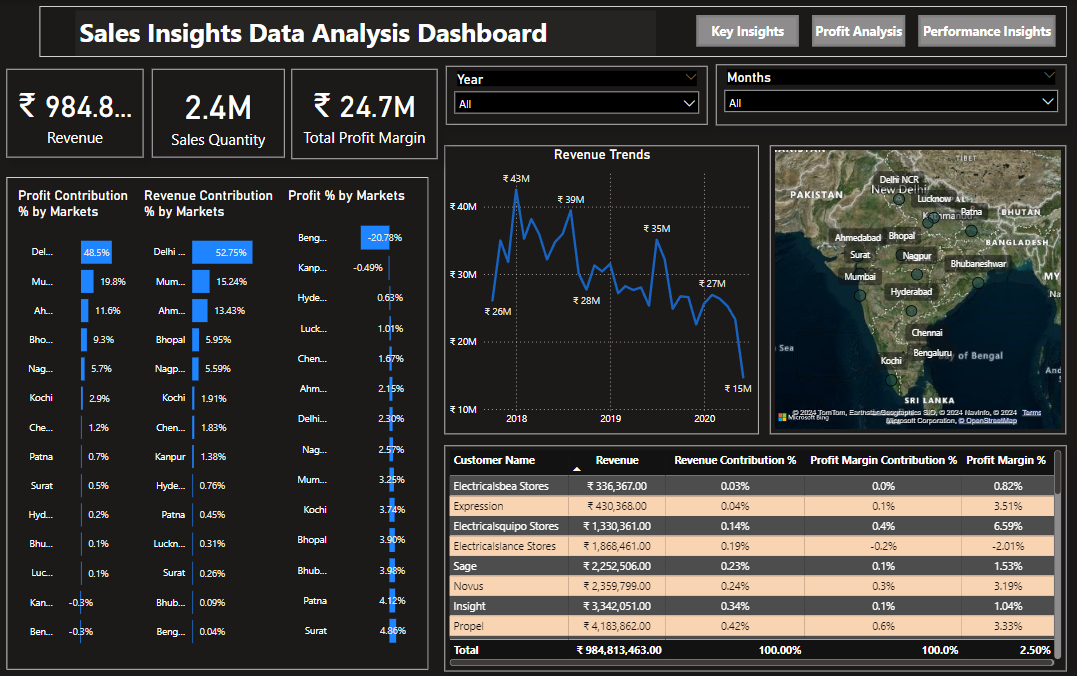

What the dashboard file says about the page in this screenshot:
{"tool":"powerbi","page":{"name":"Profit Analysis","canvas":[1350,850],"ordinal":1},"visuals":[{"type":"shape","box":[9.8,222,528.3,616.8],"z":0},{"type":"card","fields":{"Values":["keymeasure.Revenue"]},"box":[9.8,85.7,171.4,111],"z":1000},{"type":"card","fields":{"Values":["keymeasure.sales quntity"]},"box":[191.1,87.1,165.8,111],"z":2000},{"type":"barChart","title":"Revenue Contribution % by Markets","fields":{"Y":["keymeasure.Revenue Contribution %"],"Category":["sales markets.markets_name"]},"box":[175.6,234.6,181.2,590.1],"z":3000},{"type":"barChart","title":"Profit Contribution % by Markets","fields":{"Y":["keymeasure.Profit Margin Contribution %"],"Category":["sales markets.markets_name"]},"box":[18.3,234.6,154.5,590.1],"z":4000},{"type":"slicer","fields":{"Values":["sales date.year"]},"box":[559,82.9,327.4,73.1],"z":5000},{"type":"slicer","fields":{"Values":["sales date.cy_date"]},"box":[897.8,81.5,438.3,75.9],"z":6000},{"type":"lineChart","title":"Revenue Trends","fields":{"Y":["keymeasure.Revenue"],"Category":["sales date.cy_date"]},"box":[557.8,182.6,393,361.1],"z":7000},{"type":"barChart","title":"Profit % by Markets","fields":{"Y":["keymeasure.Profit Margin %"],"Category":["sales markets.markets_name"]},"box":[356.9,234.6,171.4,590.1],"z":8000},{"type":"card","fields":{"Values":["keymeasure.Total Profit Margin"]},"box":[365.3,87.1,182.6,112.4],"z":9000},{"type":"tableEx","fields":{"Values":["sales customers.custmer_name","keymeasure.Revenue","keymeasure.Revenue Contribution %","keymeasure.Profit Margin Contribution %","keymeasure.Profit Margin %"]},"box":[557.8,557.8,778.3,282.4],"z":10000},{"type":"map","title":"Profit Margin % by Markets Name","fields":{"Category":["sales markets.markets_name"],"Size":["keymeasure.Profit Margin %"]},"box":[965,182.6,370.9,361.1],"z":11000},{"type":"shape","box":[50.7,7.5,1286.3,63.8],"z":12000},{"type":"actionButton","box":[872.5,19.7,127.9,39.3],"z":13000},{"type":"actionButton","box":[1017.2,19.7,116.6,39.3],"z":14000},{"type":"actionButton","box":[1150.7,19.7,171.4,39.3],"z":15000},{"type":"textbox","box":[95.8,13.1,726.7,56.3],"z":18000}]}

Visuals, with their boxes in screenshot pixels (x1, y1, x2, y2), scaled from the page's 1350x850 canvas onto the 1077x676 screenshot:
shape: rect(8, 177, 429, 667)
card - keymeasure.Revenue: rect(8, 68, 145, 156)
card - keymeasure.sales quntity: rect(152, 69, 285, 158)
"Revenue Contribution % by Markets" barChart: rect(140, 187, 285, 656)
"Profit Contribution % by Markets" barChart: rect(15, 187, 138, 656)
slicer - sales date.year: rect(446, 66, 707, 124)
slicer - sales date.cy_date: rect(716, 65, 1066, 125)
"Revenue Trends" lineChart: rect(445, 145, 759, 432)
"Profit % by Markets" barChart: rect(285, 187, 421, 656)
card - keymeasure.Total Profit Margin: rect(291, 69, 437, 159)
tableEx - sales customers.custmer_name x keymeasure.Revenue: rect(445, 444, 1066, 668)
"Profit Margin % by Markets Name" map: rect(770, 145, 1066, 432)
shape: rect(40, 6, 1067, 57)
actionButton: rect(696, 16, 798, 47)
actionButton: rect(811, 16, 905, 47)
actionButton: rect(918, 16, 1055, 47)
textbox: rect(76, 10, 656, 55)
